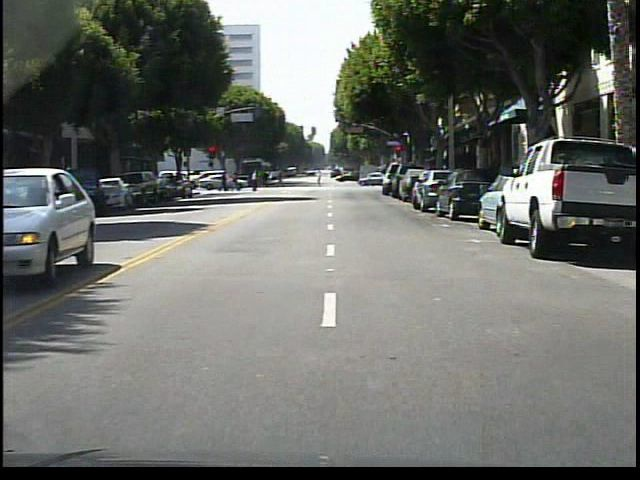person: (247, 166, 267, 195)
